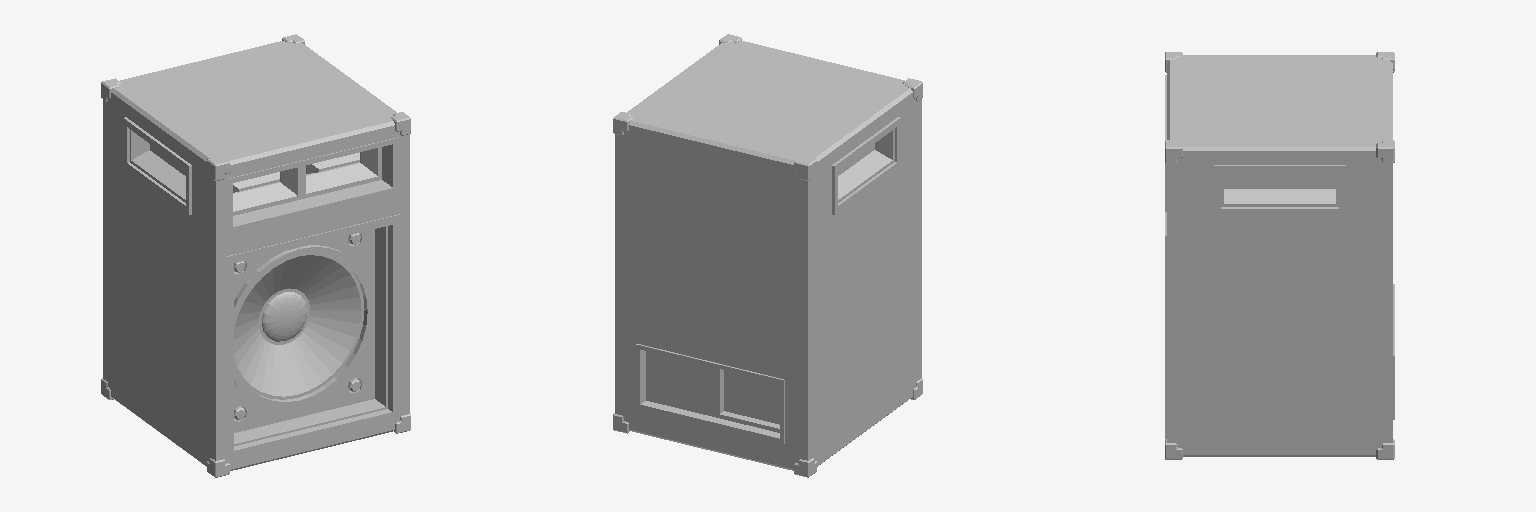
The model's file is SPK2A0.obj.
3 views of the same model, side by side, from view 1: azimuth 30°, elevation 25°; view 2: azimuth 150°, elevation 25°; view 3: azimuth 270°, elevation 25° (orthographic).
Parts seen in each view (by area): view 1: SPK2A0; view 2: SPK2A0; view 3: SPK2A0.
Boxes of the visible parts, x1,y1,x2,y2 form: SPK2A0: [101, 34, 410, 477]; SPK2A0: [613, 34, 922, 477]; SPK2A0: [1165, 52, 1394, 459].
Size of the model in its own units: 2 by 3 by 2.